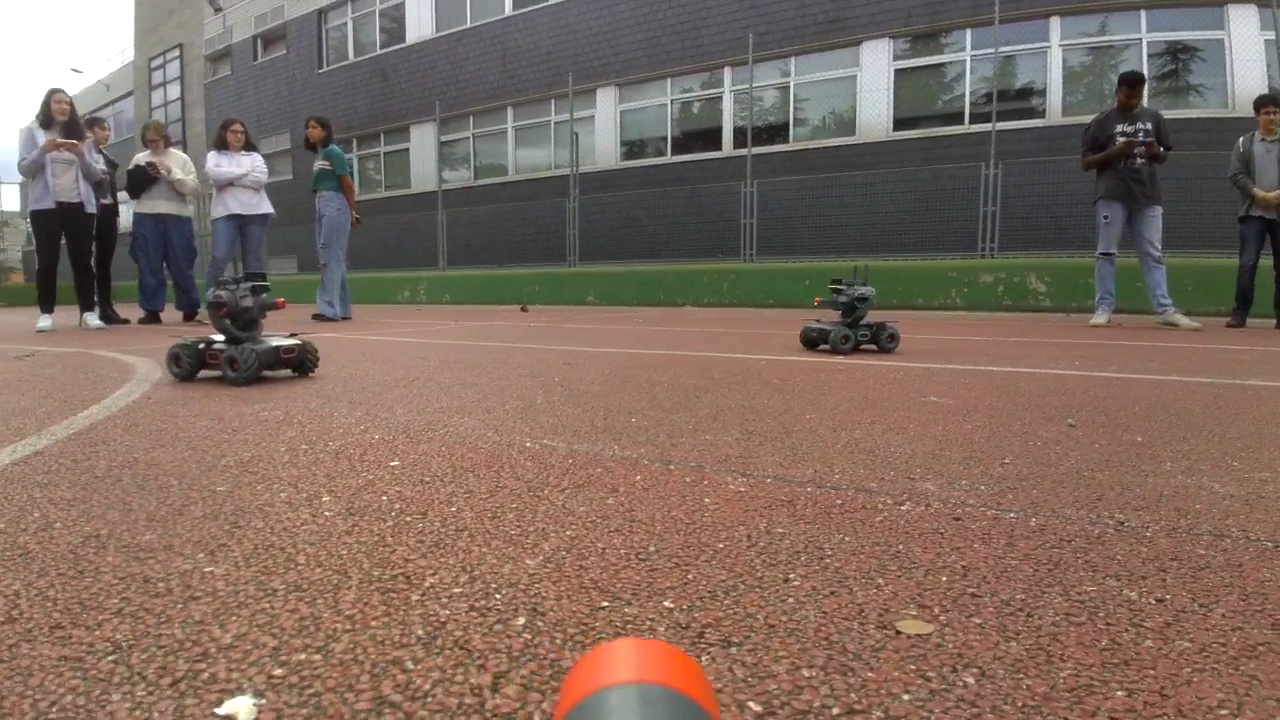robot: (168, 271, 320, 384), (799, 278, 901, 353)
